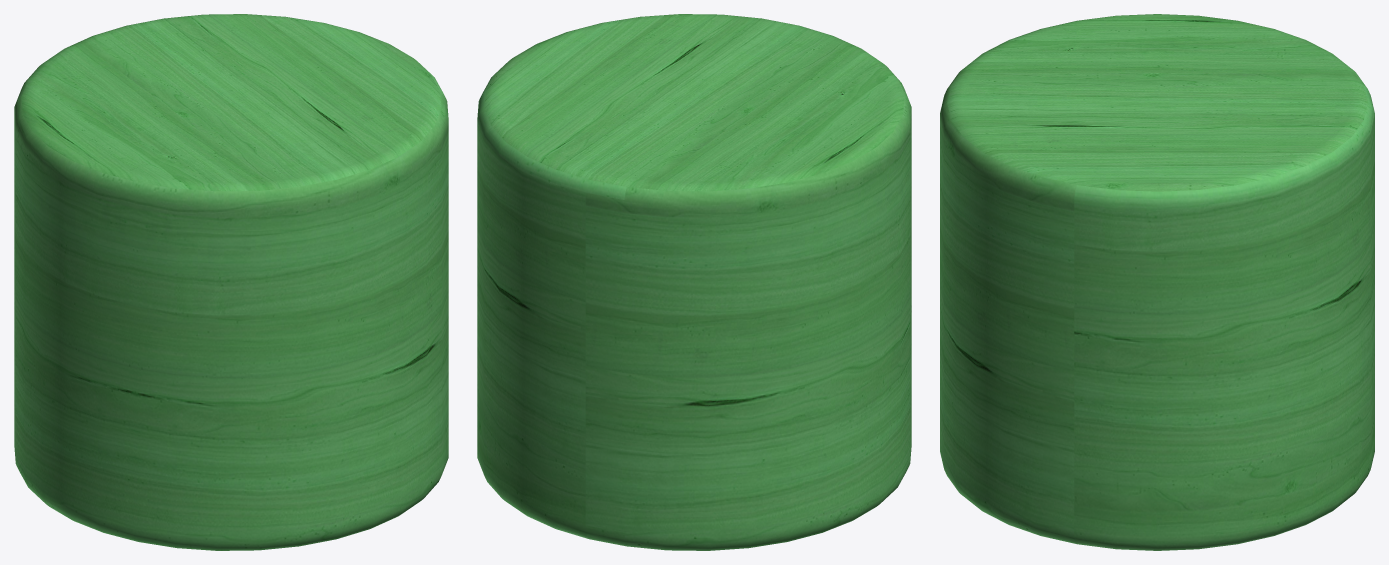
Rendered from Piece 2.FBX.
3 views of the same model, side by side, from view 1: azimuth 30°, elevation 25°; view 2: azimuth 150°, elevation 25°; view 3: azimuth 270°, elevation 25° (orthographic).
Parts seen in each view (by area): view 1: piece 2; view 2: piece 2; view 3: piece 2.
Part boxes in pixels (<box>): piece 2: <box>14,14,448,550</box>; piece 2: <box>477,14,911,550</box>; piece 2: <box>940,14,1374,550</box>.
Bounding box in the file's own units: 2.79 × 2.58 × 2.79.
